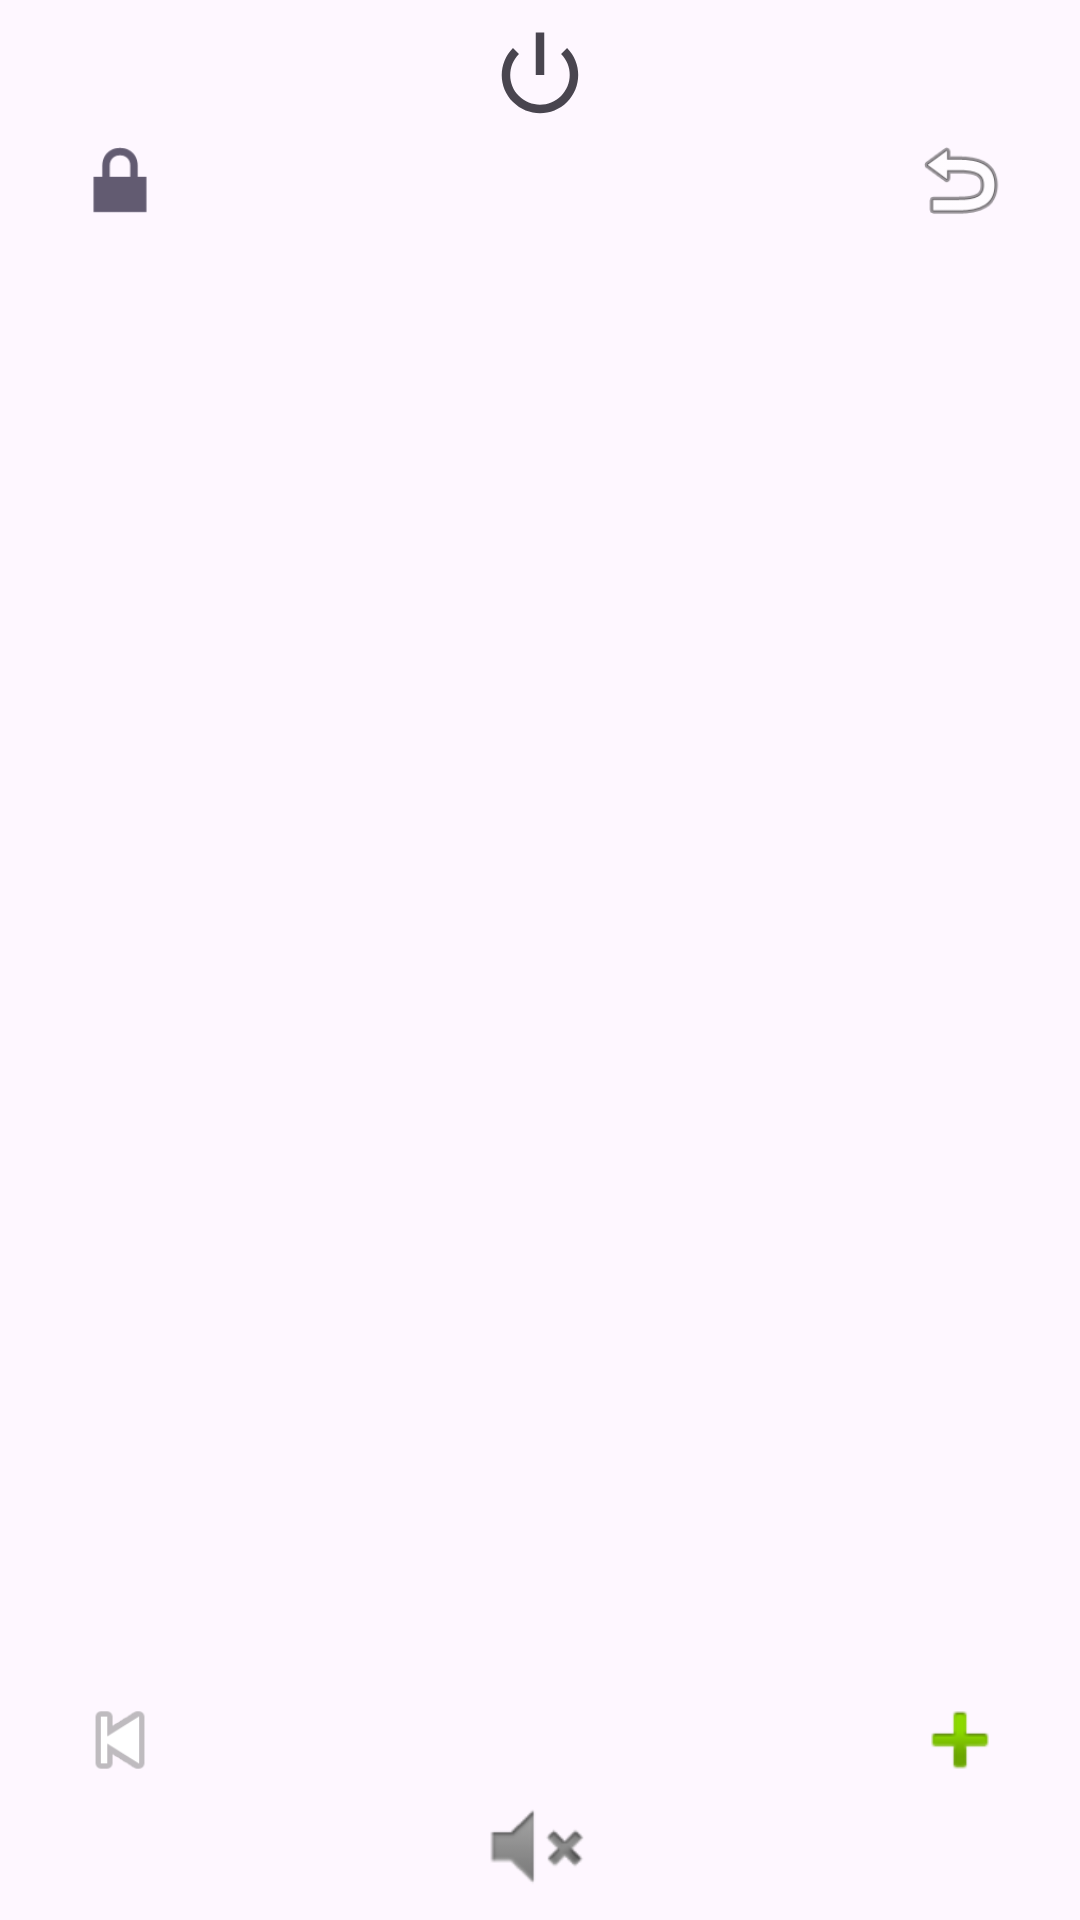

Icons on this 1080w x 1920h Android screen, each with its box as (x1, y1, x2, y2):
Lock Screen: (93, 147, 147, 213)
Mute: (491, 1811, 583, 1882)
Power Off: (501, 32, 579, 114)
